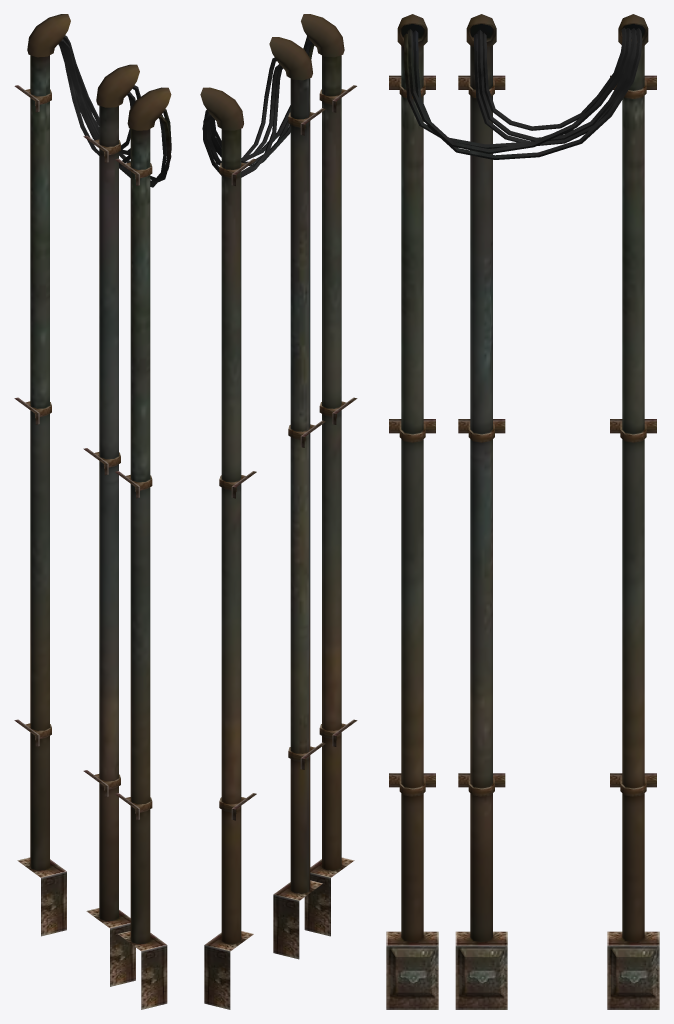
The model's file is wirepipe.glb.
3 renders of one model, left to right at view 1: azimuth 30°, elevation 25°; view 2: azimuth 150°, elevation 25°; view 3: azimuth 270°, elevation 25°, orthographic. The views are drawn at different scales.
Parts seen in each view (by area): view 1: 0_wirepipe; view 2: 0_wirepipe; view 3: 0_wirepipe.
Part boxes in pixels (x1,y1,x2,y2): 0_wirepipe: [14, 14, 171, 1009]; 0_wirepipe: [200, 14, 357, 1009]; 0_wirepipe: [386, 14, 659, 1009].
Bounding box in the file's own units: 0.2685 × 4.42 × 1.1.
Materials: 1 (1 with a texture image).
